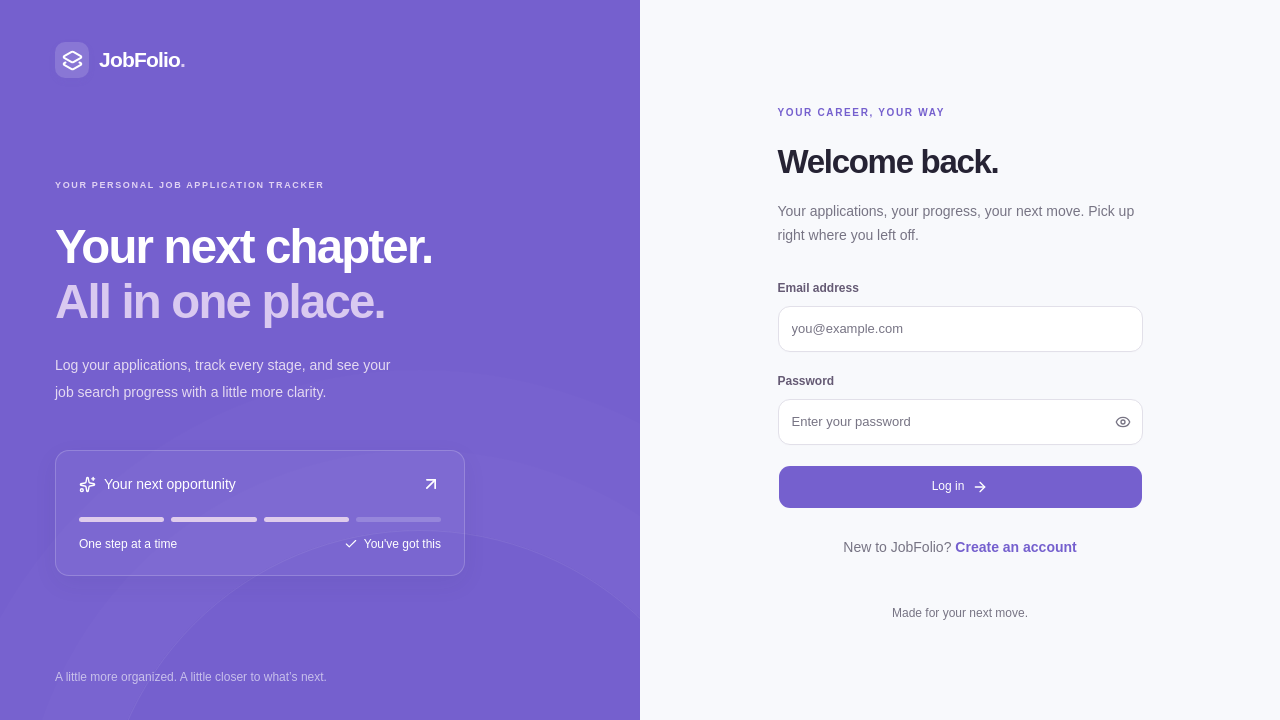
Test: LoginPage › rejects empty fields without making a login request
Click the button "Log in": click(960, 487) [778, 465, 1142, 509]
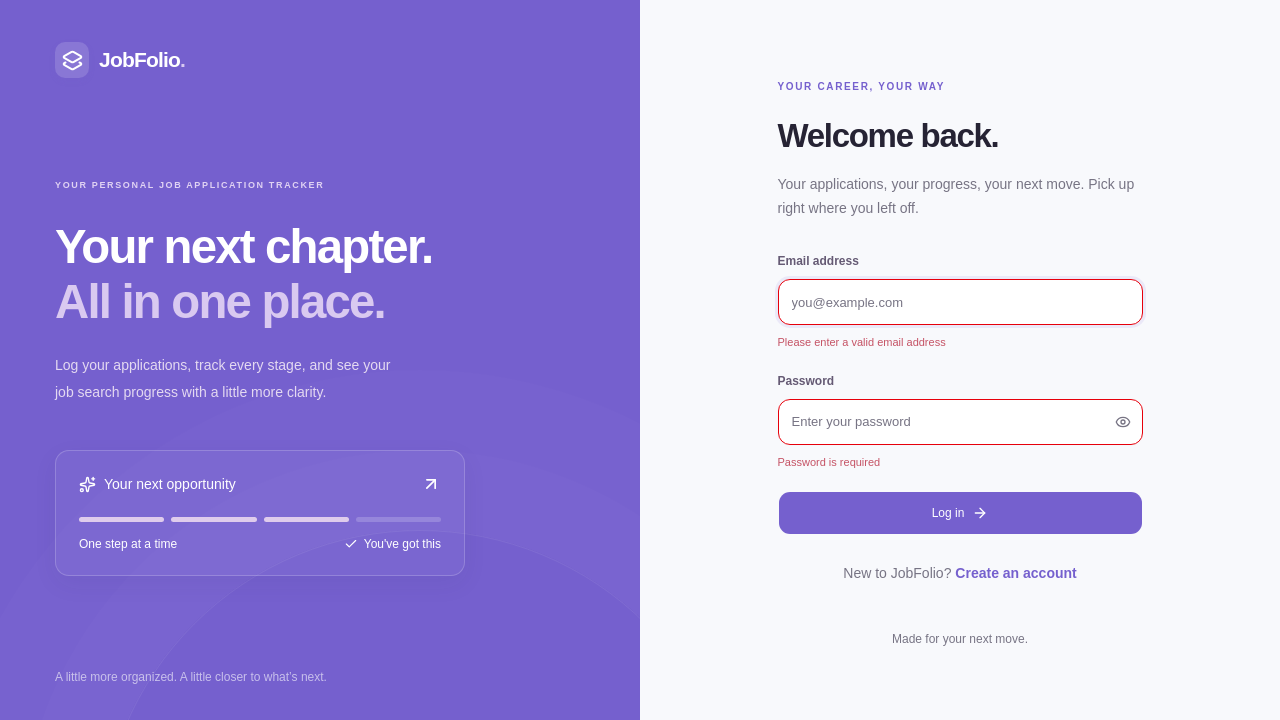
Expected: the text "Please enter a valid email address" is shown, [778, 336, 946, 348]
Expected: the text "Password is required" is shown, [778, 456, 880, 468]
